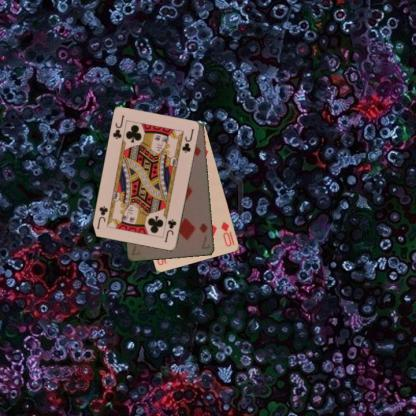10d: (218, 219, 236, 248)
7d: (196, 221, 212, 250)
Jc: (110, 113, 126, 141), (162, 216, 177, 244)
